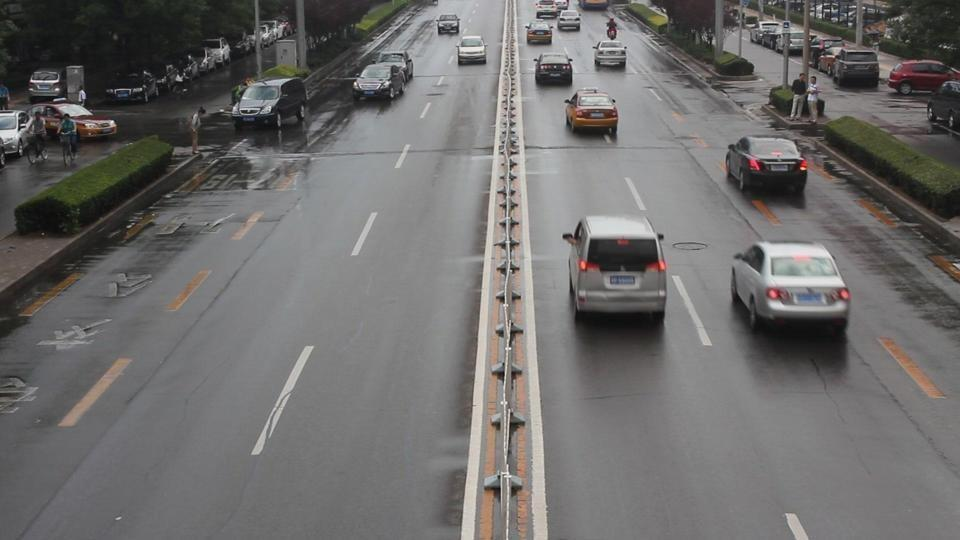car: (729, 240, 852, 339), (562, 213, 669, 320), (723, 135, 808, 198), (232, 74, 309, 129), (562, 89, 620, 136), (886, 60, 959, 95), (45, 104, 119, 138), (352, 61, 408, 101), (831, 46, 880, 88), (925, 80, 960, 136), (105, 72, 158, 104), (535, 49, 575, 87), (0, 111, 30, 161), (374, 50, 413, 84), (28, 68, 67, 101), (592, 40, 628, 70), (201, 37, 231, 70), (457, 35, 487, 66), (524, 19, 553, 45), (556, 9, 582, 31), (437, 13, 460, 35), (0, 83, 10, 110)
